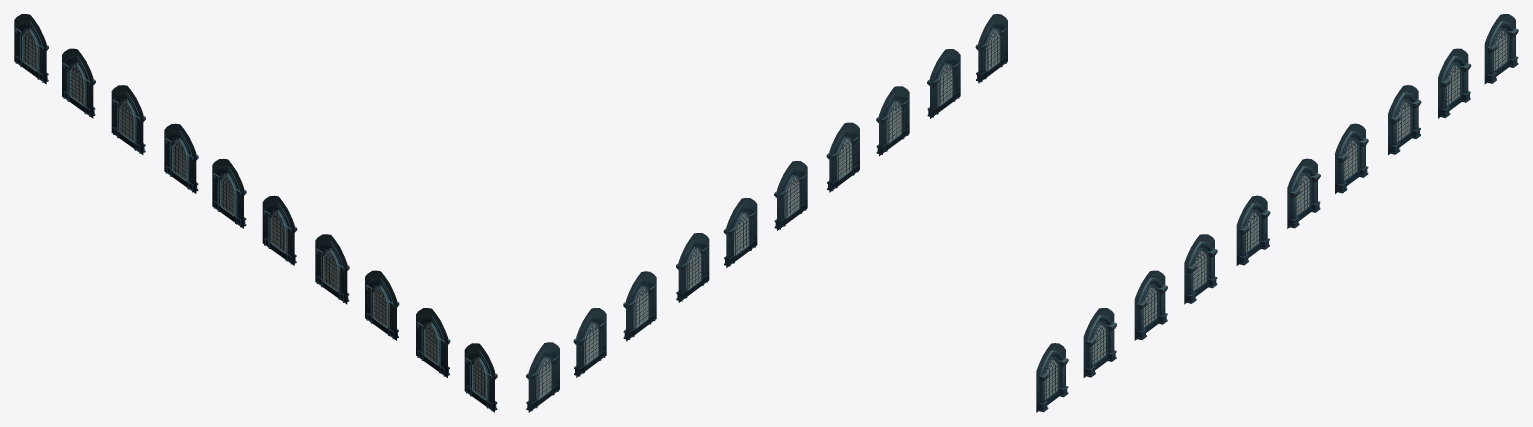
Rendered from Area_07_5.fbx.
3 views of the same model, side by side, from view 1: azimuth 30°, elevation 25°; view 2: azimuth 150°, elevation 25°; view 3: azimuth 330°, elevation 25° (orthographic).
Parts seen in each view (by area): view 1: Area_07_5; view 2: Area_07_5; view 3: Area_07_5.
Part boxes in pixels (x1,y1,x2,y2): Area_07_5: [14, 14, 497, 412]; Area_07_5: [526, 14, 1007, 412]; Area_07_5: [1036, 14, 1518, 412].
Size of the model in its own units: 76.17 by 585 by 8735.
